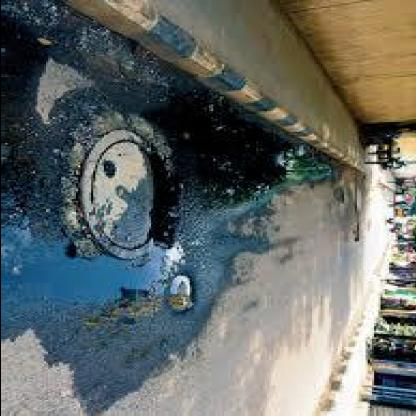manholes: (41, 102, 193, 309)
